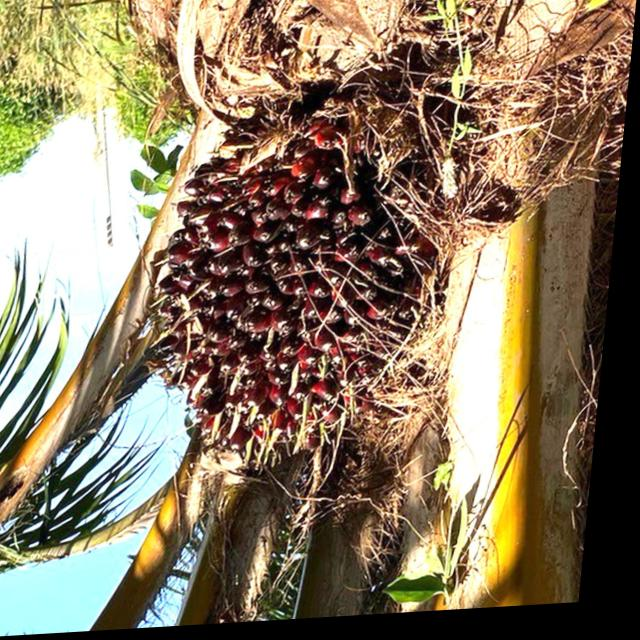ripe: (128, 77, 472, 493)
